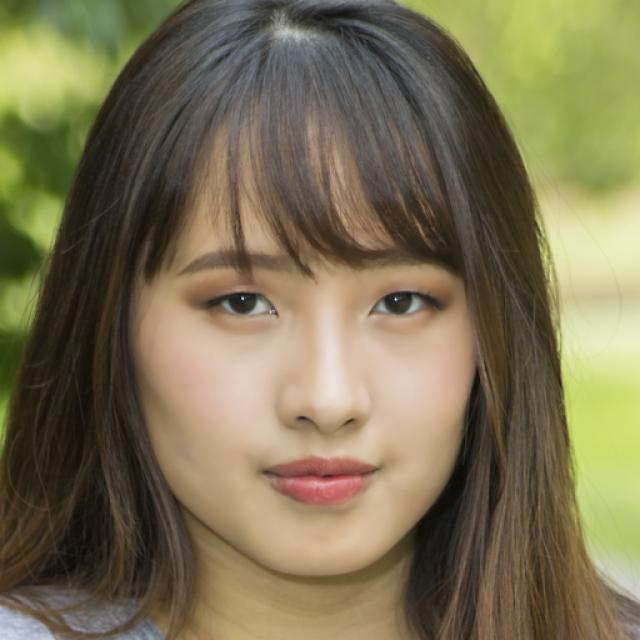content: (129, 108, 480, 576)
